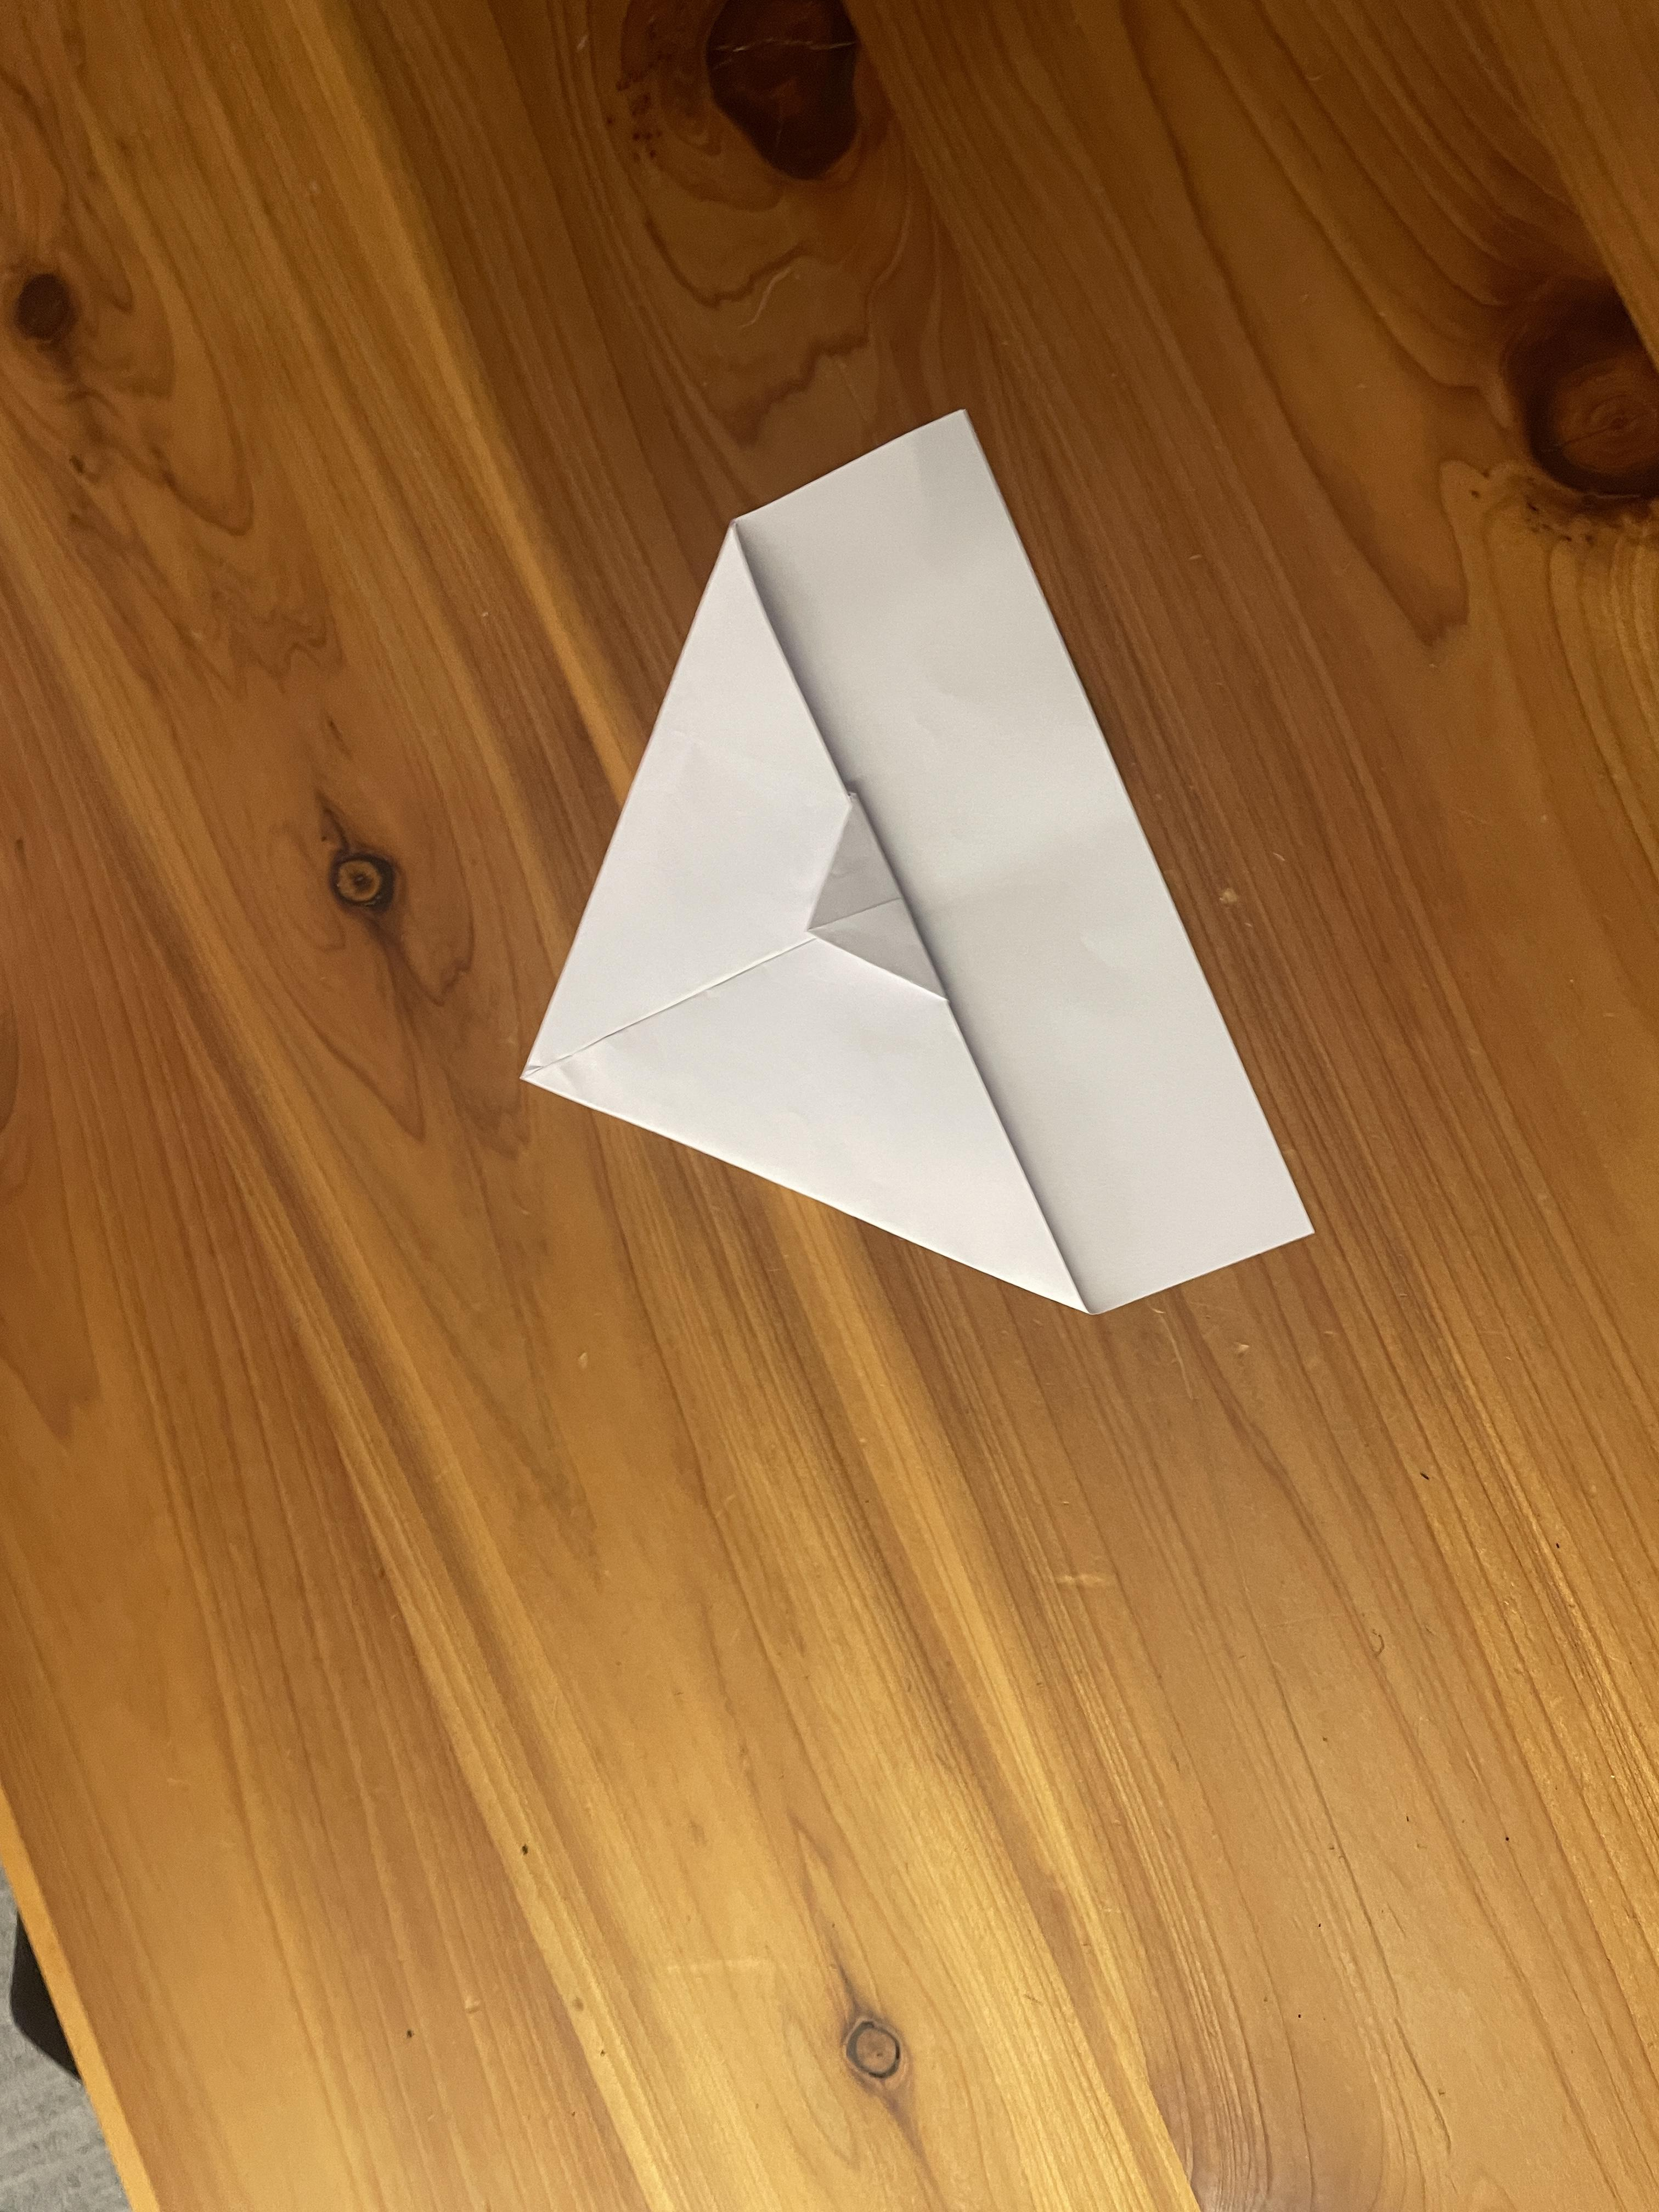shape_2: (362, 319, 1556, 1446)
